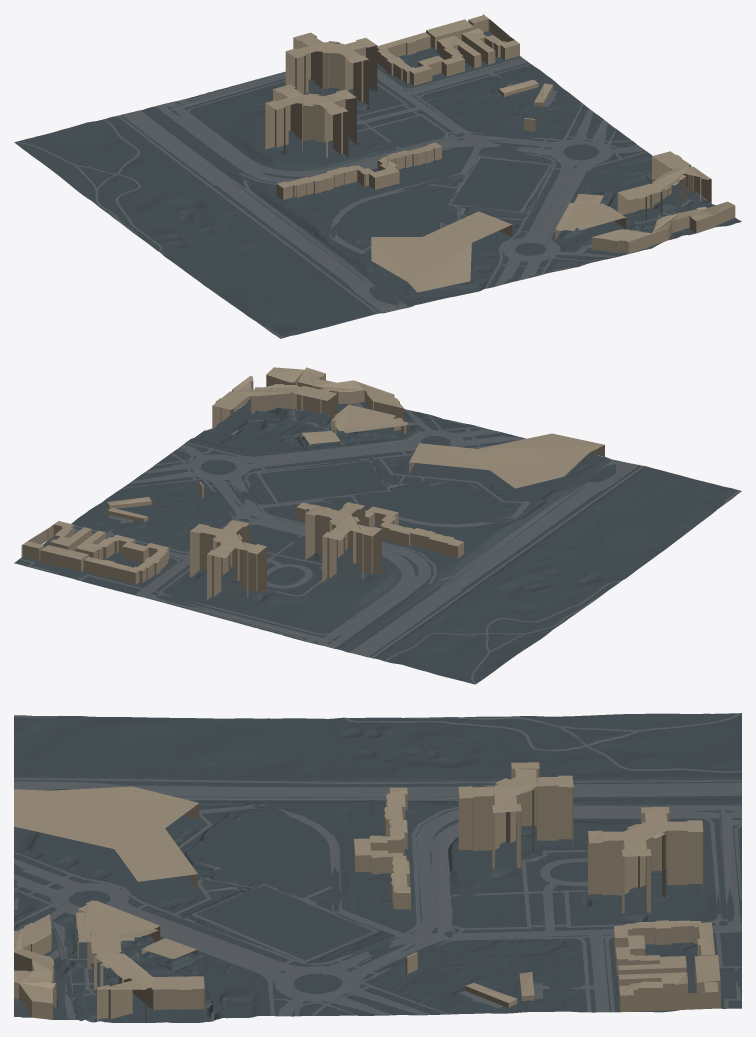
Rendered from epsg26910-1420-10872.lod0.glb.
The picture shows the model from 3 angles, top to bottom: view 1: azimuth 30°, elevation 25°; view 2: azimuth 150°, elevation 25°; view 3: azimuth 270°, elevation 25°; orthographic projection. The views are drawn at different scales.
Visible parts, largest first — view 1: epsg26910-1420-10872-lod0; view 2: epsg26910-1420-10872-lod0; view 3: epsg26910-1420-10872-lod0.
Boxes of the visible parts, x1=… form: epsg26910-1420-10872-lod0: x1=14, y1=14, x2=741, y2=338; epsg26910-1420-10872-lod0: x1=14, y1=367, x2=741, y2=684; epsg26910-1420-10872-lod0: x1=14, y1=713, x2=741, y2=1022.
Bounding box in the file's own units: 384 × 44.93 × 384.
